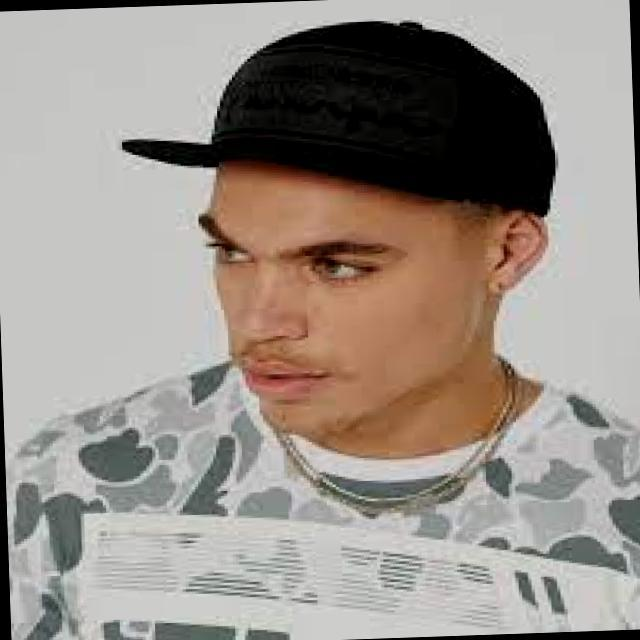cap: (103, 0, 580, 243)
